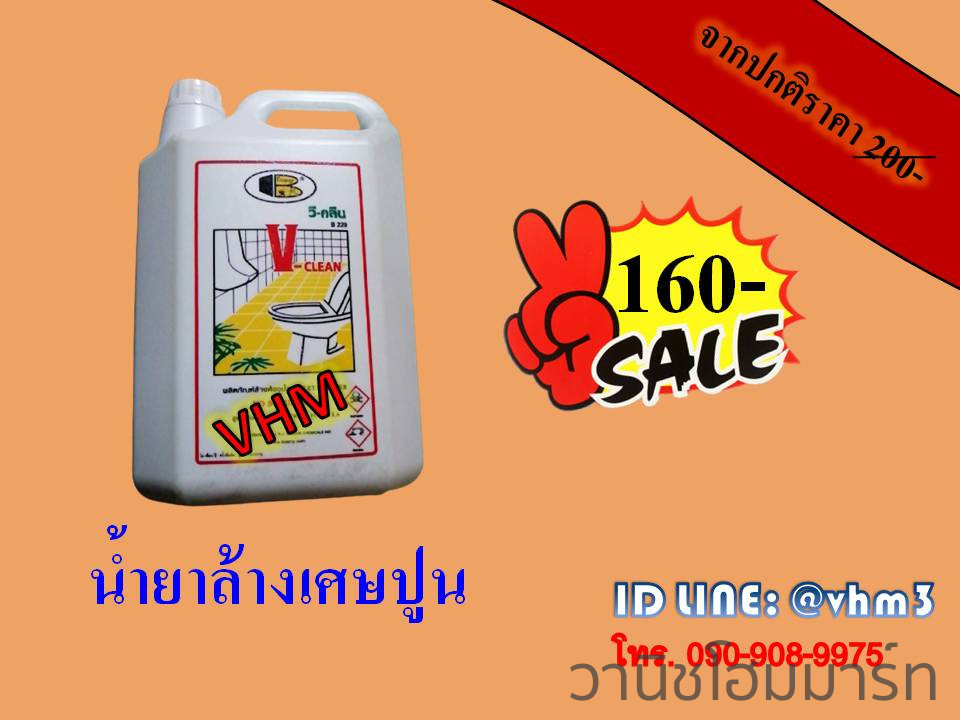Cleaning_solution: (125, 67, 442, 521)
